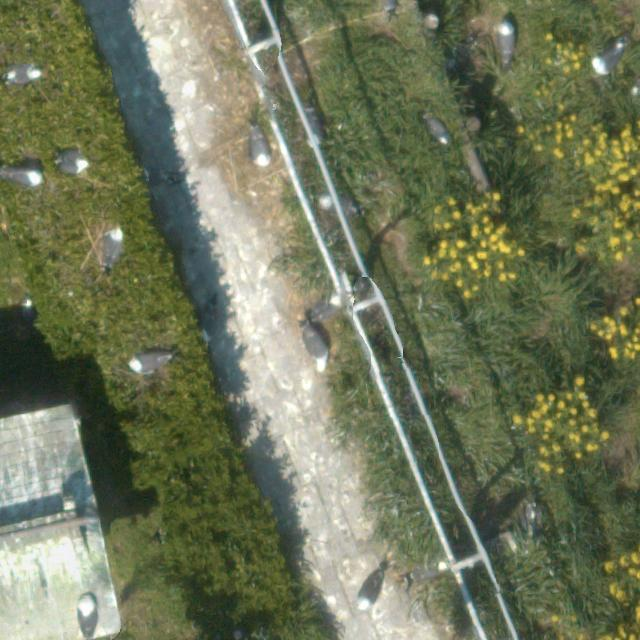umineko: (76, 591, 102, 640), (356, 568, 384, 612), (320, 193, 363, 216), (595, 42, 624, 72), (309, 332, 329, 367), (130, 354, 164, 373), (499, 24, 516, 61), (106, 230, 124, 262), (7, 168, 39, 185), (58, 154, 86, 173), (8, 65, 38, 82), (253, 135, 270, 164), (428, 119, 449, 142), (22, 300, 35, 324), (381, 0, 397, 11)
